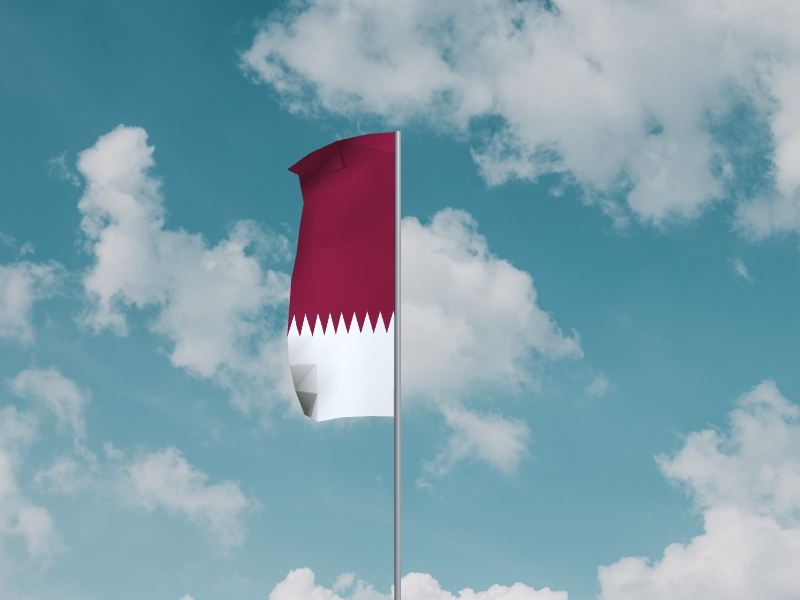qa: (287, 133, 395, 422)
